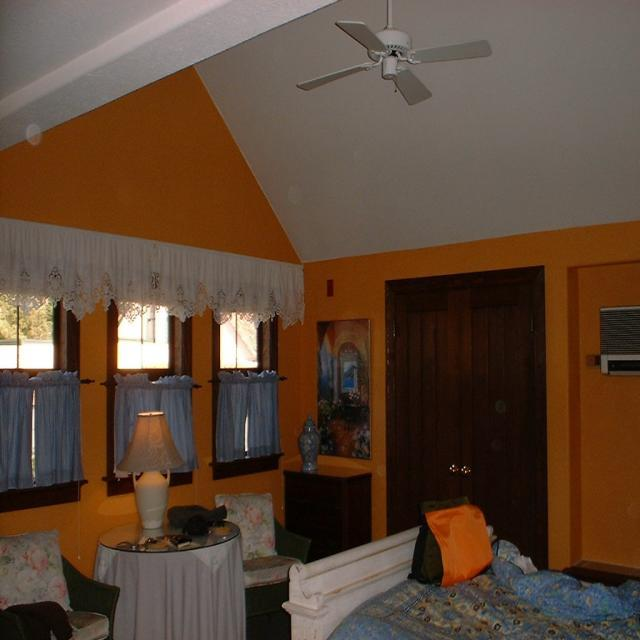fan_off: (296, 2, 487, 106)
